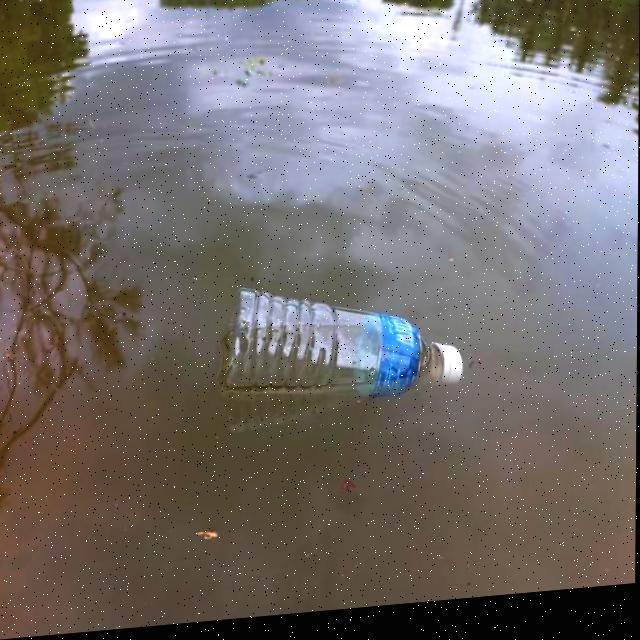waterbottle: (175, 262, 480, 427)
